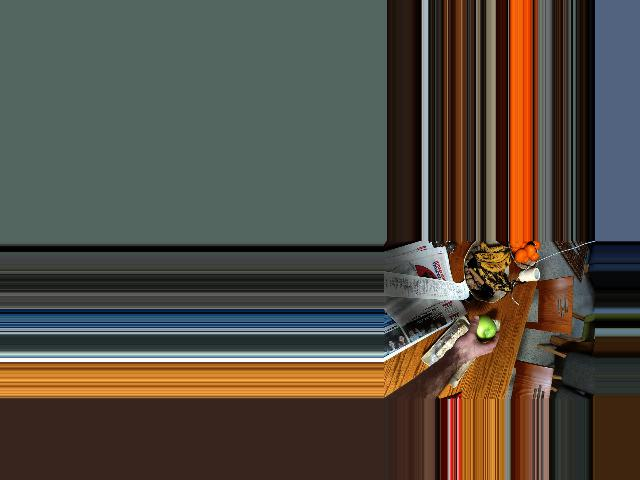apple: (470, 315, 499, 346)
